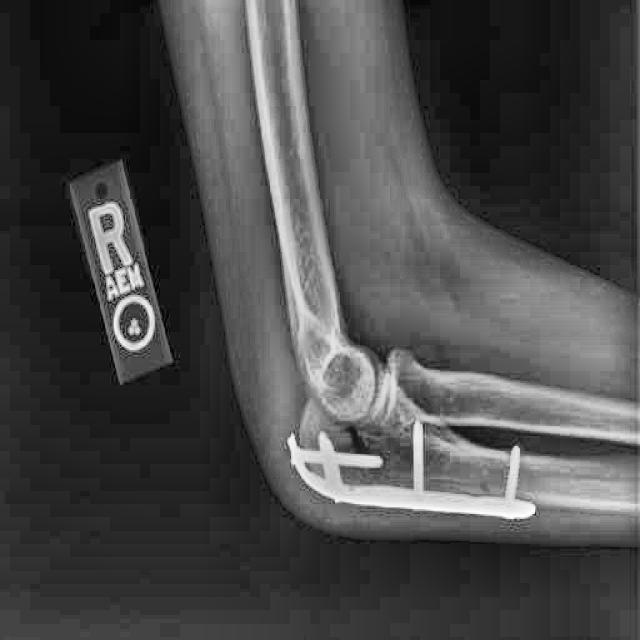elbow positive: (339, 417, 375, 455)
